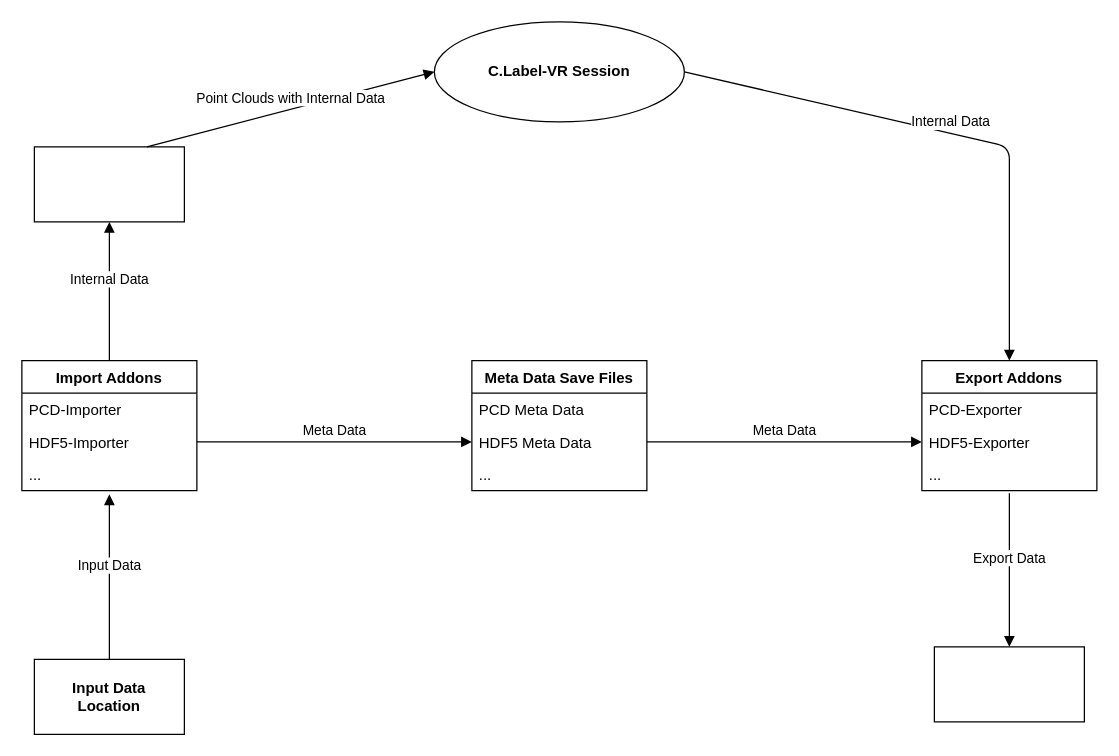
Some shapes in this 1119 by 756 pixel diagram are drawn without their labels. The shapes that lost their labels are listed below. From the top down, each one's centre as x and y in pixels, then its label:
At pixel 108 184: "PCL Generator".
At pixel 1008 684: "Export Data Location".
